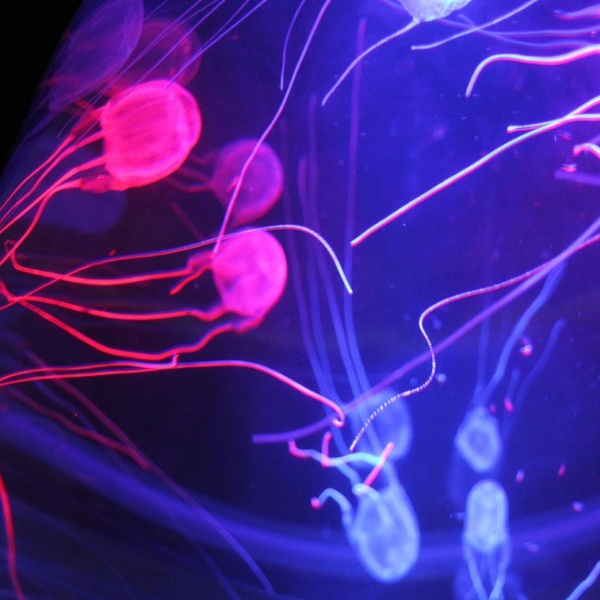Jellyfish: (284, 14, 422, 584), (0, 77, 201, 269), (0, 225, 286, 336), (461, 260, 571, 471), (457, 476, 516, 599)
